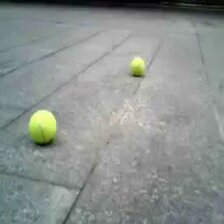tennis: (29, 111, 57, 143), (130, 57, 145, 75)
